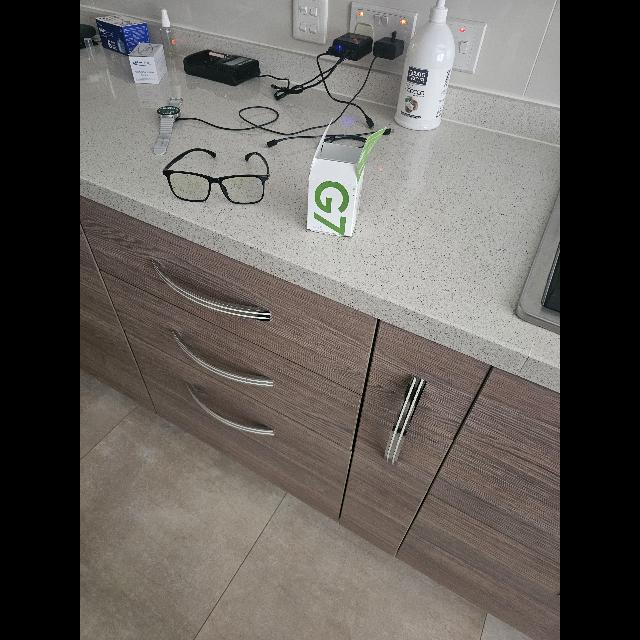glasses: (162, 148, 270, 204)
